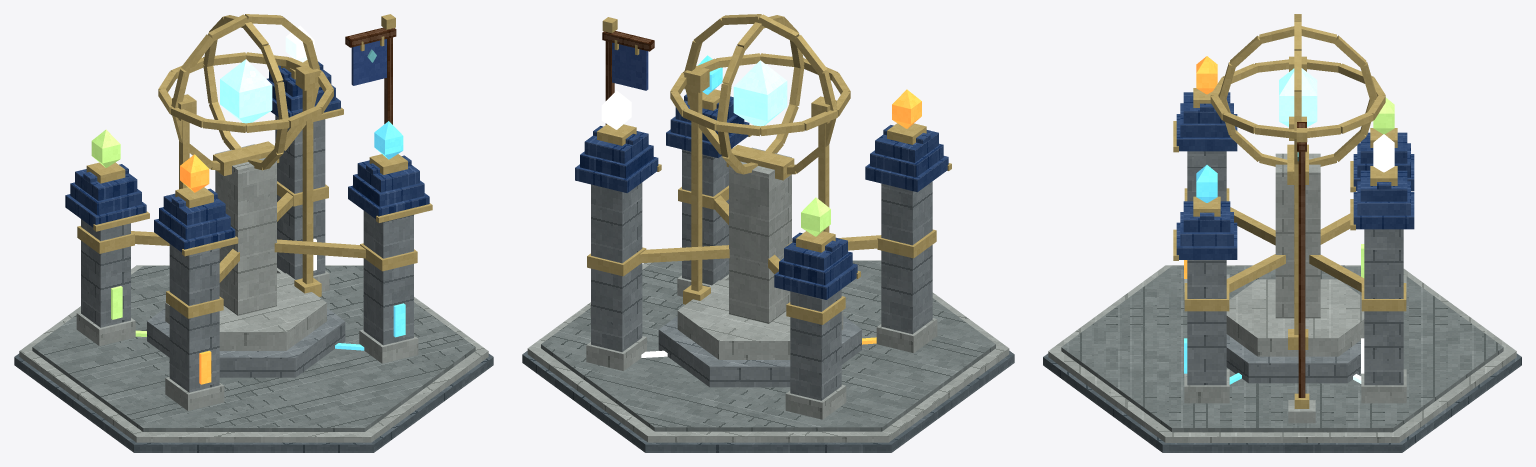
File: elemental_ritual_hex_v1.glb
3 renders of one model, left to right at view 1: azimuth 30°, elevation 25°; view 2: azimuth 150°, elevation 25°; view 3: azimuth 270°, elevation 25°, orthographic. The views are drawn at different scales.
Parts seen in each view (by area): view 1: Elemental_Ritual_Hex_V1_Foundation, Elemental_Ritual_Hex_V1_Focus, Elemental_Ritual_Hex_V1_Hall, Elemental_Ritual_Hex_V1_Roofs, Elemental_Ritual_Hex_V1_Courtyard, Elemental_Ritual_Hex_V1_Faction; view 2: Elemental_Ritual_Hex_V1_Focus, Elemental_Ritual_Hex_V1_Foundation, Elemental_Ritual_Hex_V1_Hall, Elemental_Ritual_Hex_V1_Roofs, Elemental_Ritual_Hex_V1_Courtyard, Elemental_Ritual_Hex_V1_Faction; view 3: Elemental_Ritual_Hex_V1_Foundation, Elemental_Ritual_Hex_V1_Focus, Elemental_Ritual_Hex_V1_Hall, Elemental_Ritual_Hex_V1_Roofs, Elemental_Ritual_Hex_V1_Courtyard, Elemental_Ritual_Hex_V1_Faction.
Part boxes in pixels (bbox=[...]): Elemental_Ritual_Hex_V1_Foundation: bbox=[14, 265, 493, 452]; Elemental_Ritual_Hex_V1_Focus: bbox=[77, 14, 417, 384]; Elemental_Ritual_Hex_V1_Hall: bbox=[76, 115, 418, 410]; Elemental_Ritual_Hex_V1_Roofs: bbox=[65, 61, 432, 256]; Elemental_Ritual_Hex_V1_Courtyard: bbox=[147, 308, 345, 377]; Elemental_Ritual_Hex_V1_Faction: bbox=[345, 14, 396, 124]; Elemental_Ritual_Hex_V1_Focus: bbox=[587, 14, 936, 359]; Elemental_Ritual_Hex_V1_Foundation: bbox=[522, 260, 1014, 452]; Elemental_Ritual_Hex_V1_Hall: bbox=[586, 147, 937, 419]; Elemental_Ritual_Hex_V1_Roofs: bbox=[575, 94, 951, 299]; Elemental_Ritual_Hex_V1_Courtyard: bbox=[658, 316, 861, 387]; Elemental_Ritual_Hex_V1_Faction: bbox=[590, 17, 654, 317]; Elemental_Ritual_Hex_V1_Foundation: bbox=[1043, 265, 1521, 452]; Elemental_Ritual_Hex_V1_Focus: bbox=[1184, 14, 1406, 373]; Elemental_Ritual_Hex_V1_Hall: bbox=[1184, 151, 1406, 403]; Elemental_Ritual_Hex_V1_Roofs: bbox=[1173, 92, 1414, 260]; Elemental_Ritual_Hex_V1_Courtyard: bbox=[1226, 334, 1360, 383]; Elemental_Ritual_Hex_V1_Faction: bbox=[1288, 122, 1315, 423].
Size of the model in its own units: 1.59 by 1.46 by 1.84.
1 material, 1 textured.
